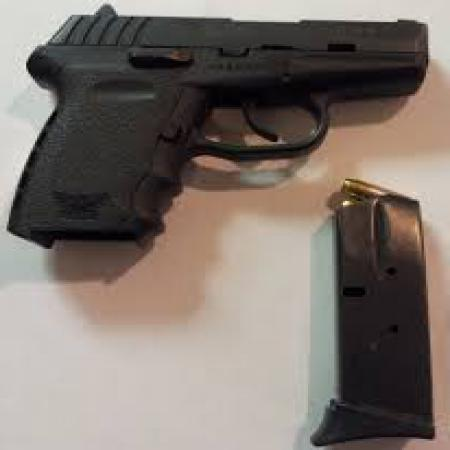Pistol: (11, 4, 435, 251)
